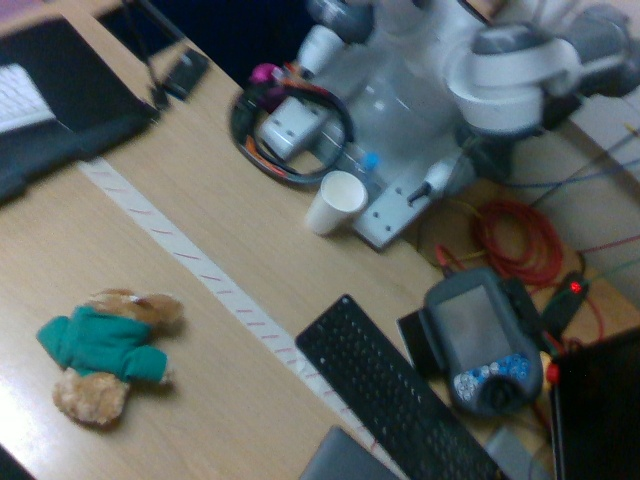teddy: (36, 289, 185, 426)
